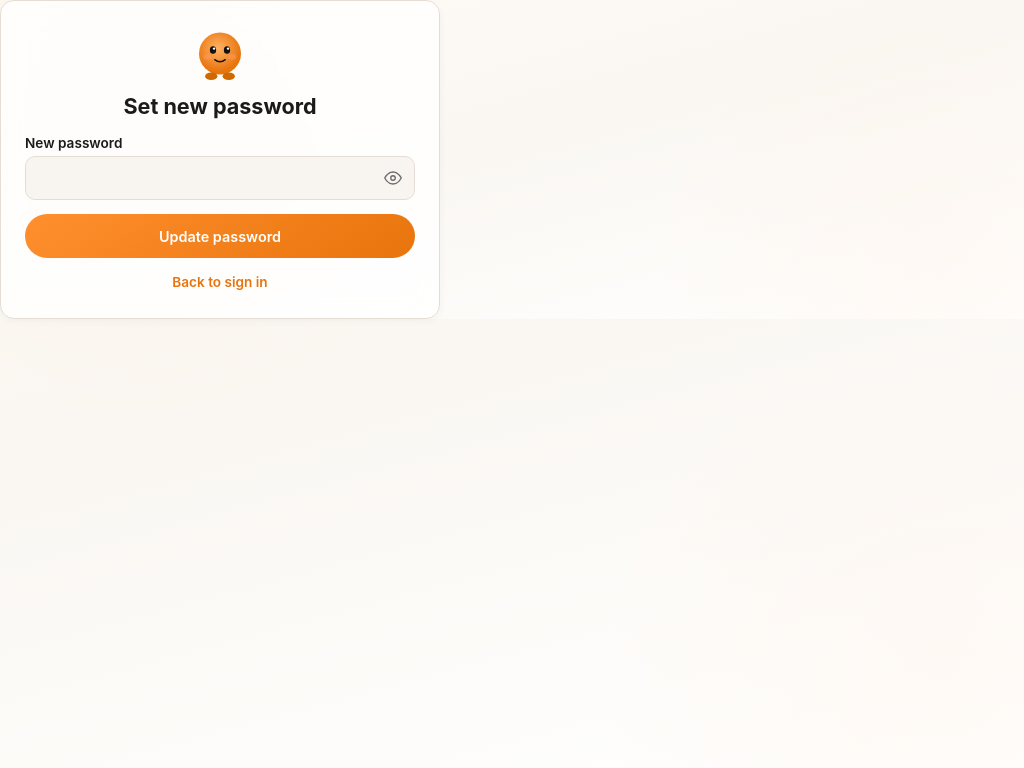
Scenario: AuthForm › success flows › reset success → shows "Password updated"
Type "NewSecure1!" into the password field with id "auth-password" at [220, 178], box [25,156,415,200]
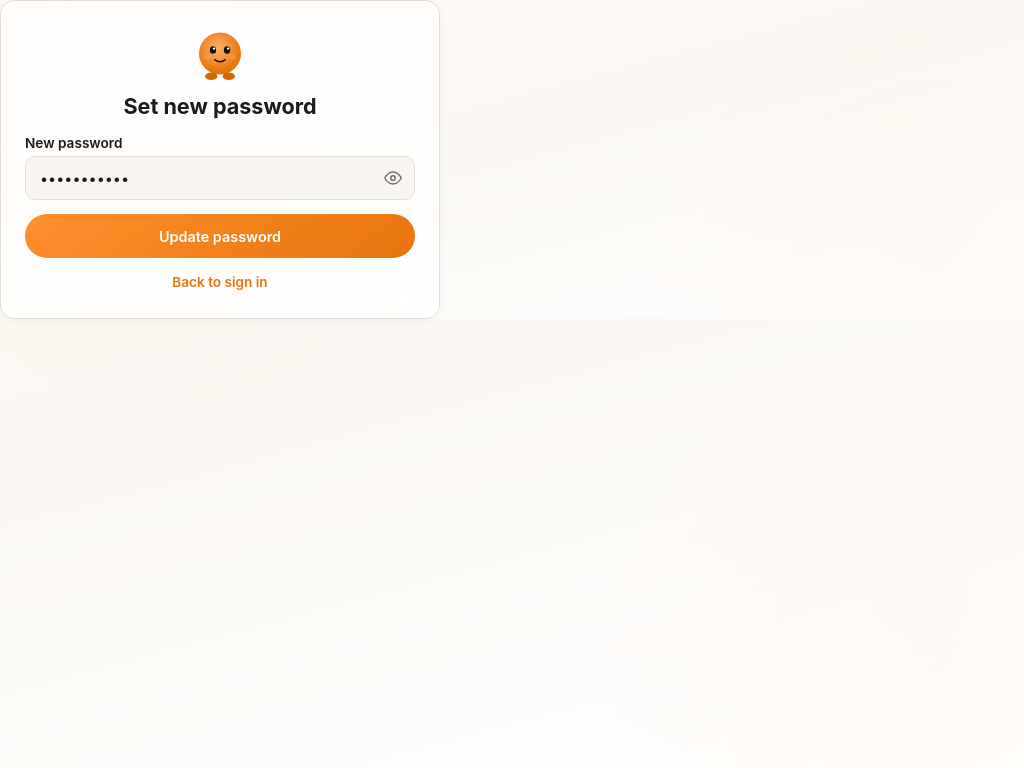
Submit the form, box [25,135,415,258]
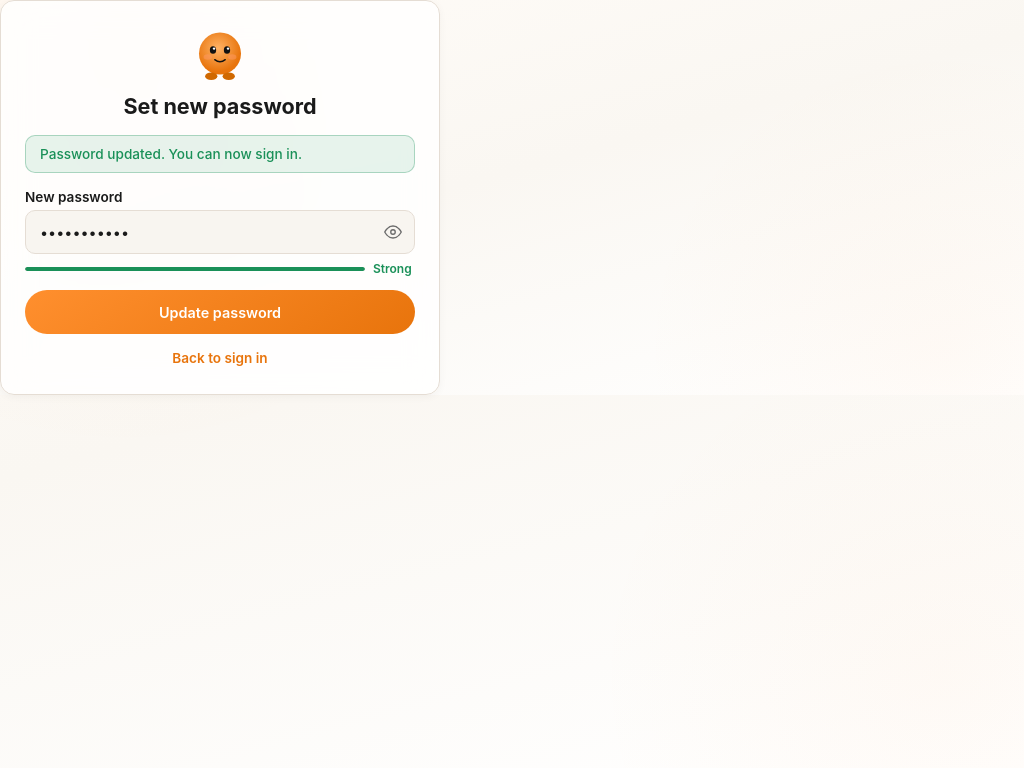
Expected: the message "Password updated. You can now sign in." is shown, [25,135,415,173]
Expected: the message with class "success-msg" shows "Password updated", [40,146,302,162]
